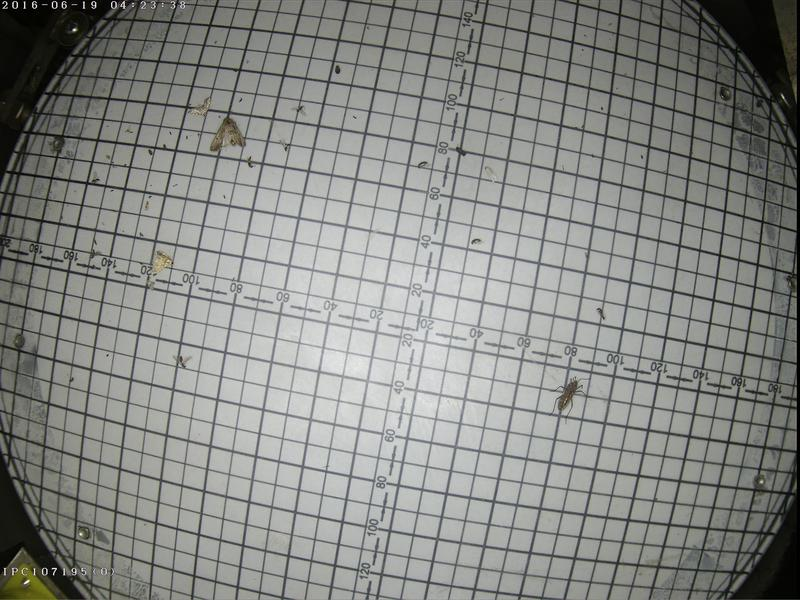Spodoptera exigua: (206, 115, 249, 150)
